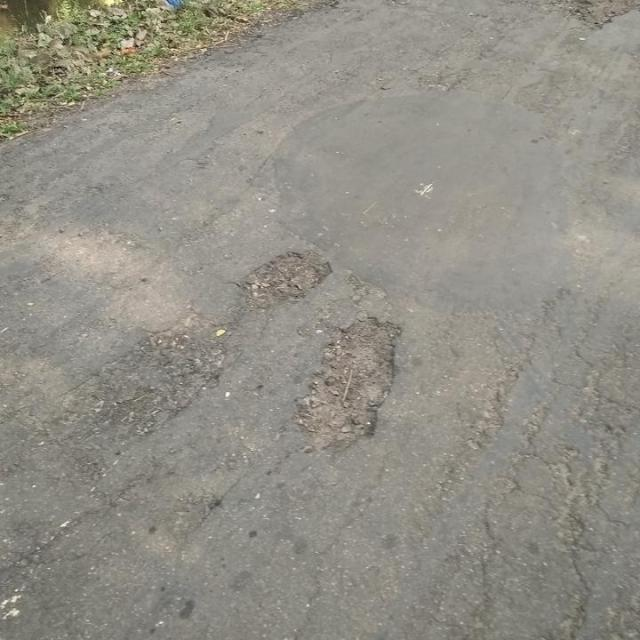road-pothole: (296, 315, 403, 461), (234, 248, 334, 305)
